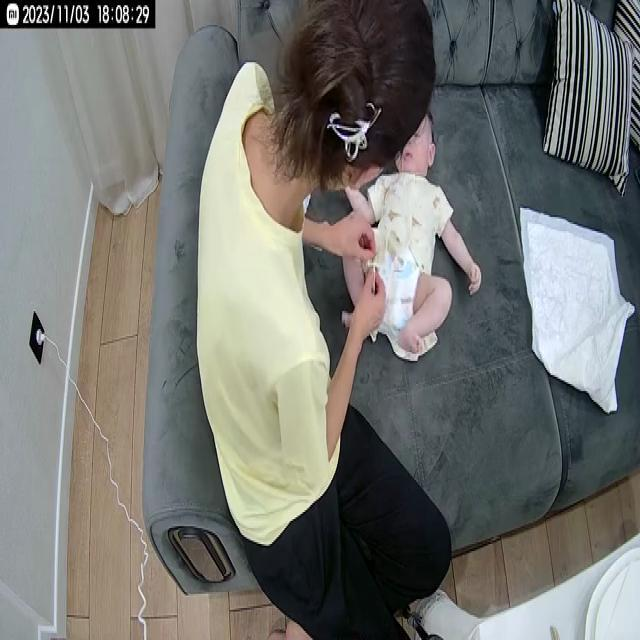baby: (336, 109, 486, 368)
